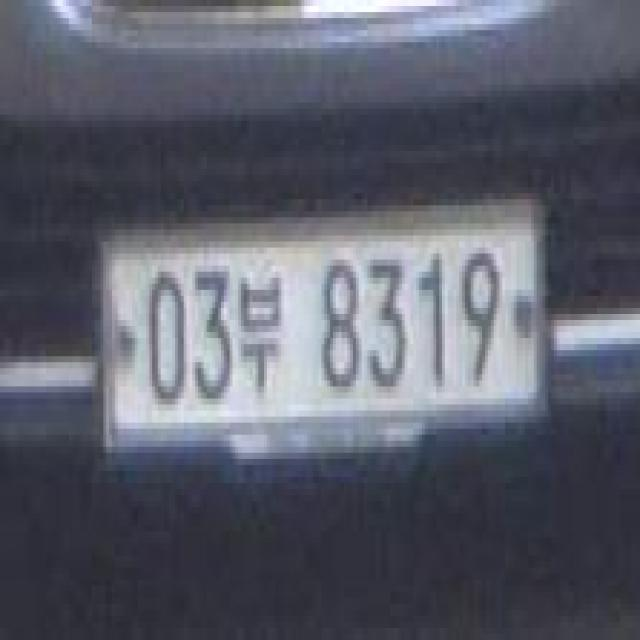illegal_plate: (97, 190, 550, 475)
